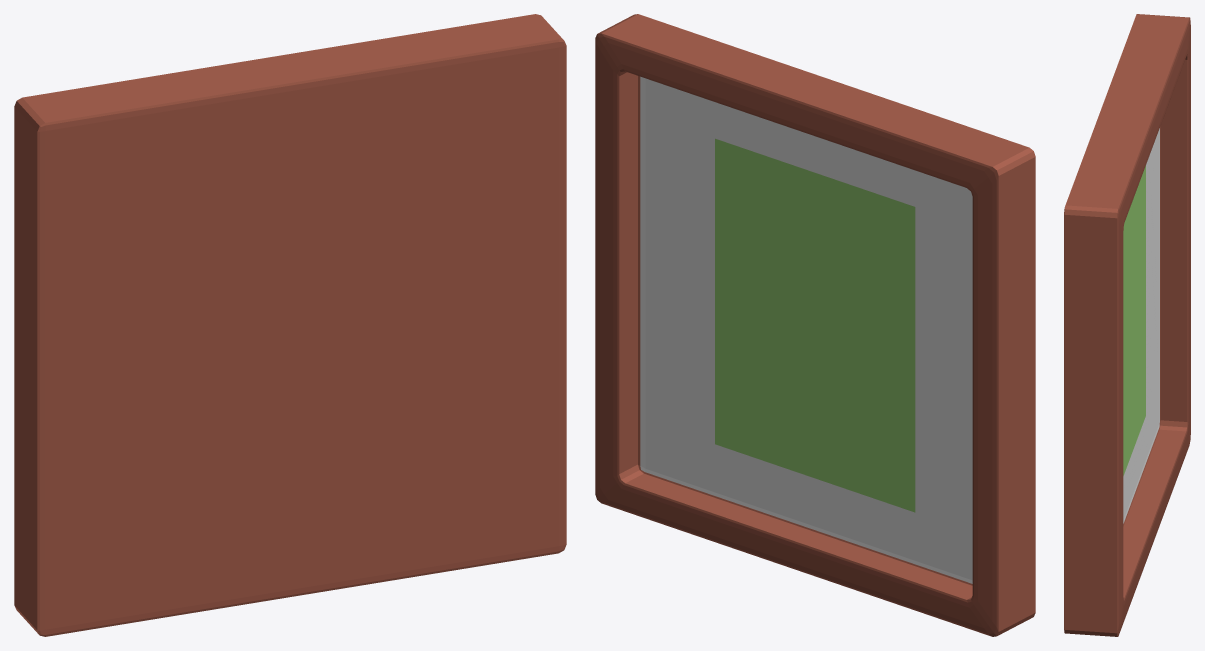
File: tablo1.fbx
3 views of the same model, side by side, from view 1: azimuth 30°, elevation 25°; view 2: azimuth 150°, elevation 25°; view 3: azimuth 270°, elevation 25° (orthographic). The views are drawn at different scales.
Parts seen in each view (by area): view 1: Cube.025; view 2: Cube.025; view 3: Cube.025.
Boxes of the visible parts, box(x1,y1,x2,y2) form: Cube.025: box(14, 14, 566, 636); Cube.025: box(595, 14, 1035, 636); Cube.025: box(1064, 14, 1190, 636).
Size of the model in its own units: 706 by 702 by 189.
